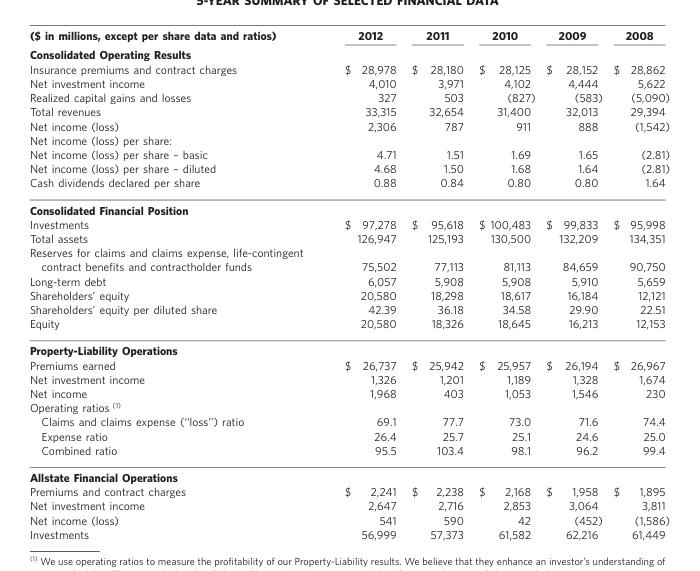table: (28, 28, 669, 540)
table column: (28, 28, 309, 540), (309, 28, 403, 540), (470, 28, 540, 540), (403, 28, 470, 540), (540, 28, 607, 540), (607, 28, 669, 540)
table column header: (28, 28, 669, 44)
table projected row header: (28, 195, 669, 216), (28, 336, 669, 357), (28, 463, 669, 483), (28, 44, 669, 61), (28, 244, 669, 259), (28, 399, 669, 414), (28, 132, 669, 146)
table row: (28, 195, 669, 216), (28, 315, 669, 336), (28, 336, 669, 357), (28, 442, 669, 463), (28, 175, 669, 195), (28, 463, 669, 483), (28, 44, 669, 61), (28, 28, 669, 44), (28, 89, 669, 104), (28, 160, 669, 175), (28, 244, 669, 259), (28, 399, 669, 414), (28, 483, 669, 498), (28, 61, 669, 75), (28, 75, 669, 89), (28, 104, 669, 118), (28, 118, 669, 132), (28, 132, 669, 146), (28, 146, 669, 160), (28, 216, 669, 230), (28, 230, 669, 244), (28, 259, 669, 273), (28, 273, 669, 287), (28, 287, 669, 301), (28, 301, 669, 315), (28, 357, 669, 371), (28, 371, 669, 385), (28, 385, 669, 399), (28, 414, 669, 428), (28, 428, 669, 442), (28, 498, 669, 512), (28, 512, 669, 526), (28, 526, 669, 540)
